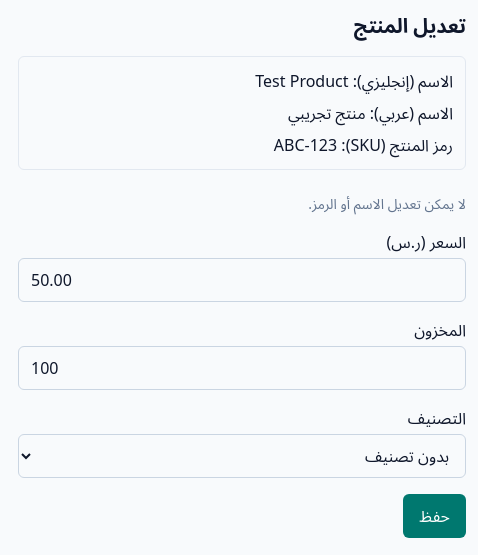
ProductEditPage › valid submit sends apiPatch with correct body in Arabic
The width and height of the screenshot is (478, 555).
Expected: the text "لا يمكن تعديل الاسم أو الرمز." is shown, [308, 194, 466, 213]
Note: Change price and stock
Replace the text in the field labelled "السعر (ر.س)" with "55.00" at (242, 280), box [18, 258, 466, 302]
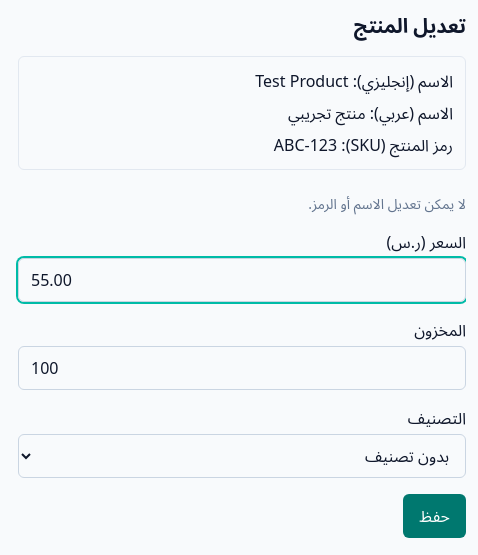
Replace the text in the field labelled "المخزون" with "200" at (242, 368), box [18, 346, 466, 390]
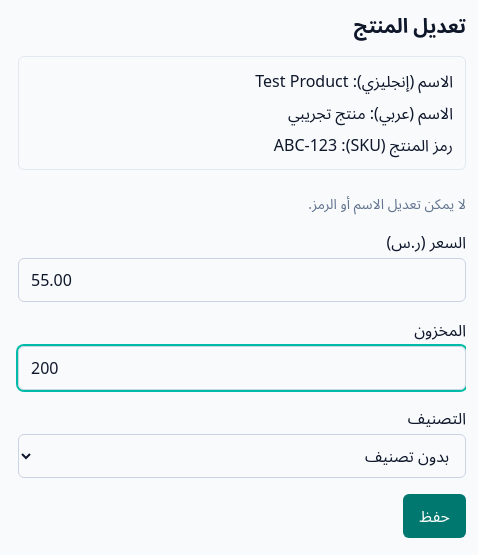
Click the button "حفظ" at (435, 516), box [403, 494, 466, 538]
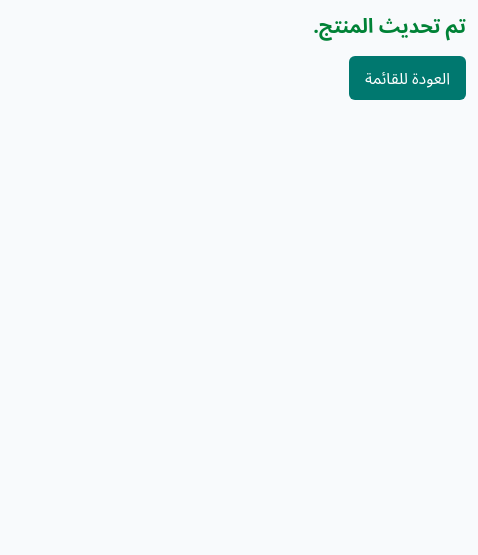
Expected: the message reads "تم تحديث المنتج.", [313, 12, 466, 39]
Expected: the button "العودة للقائمة" is shown, [349, 56, 466, 100]
